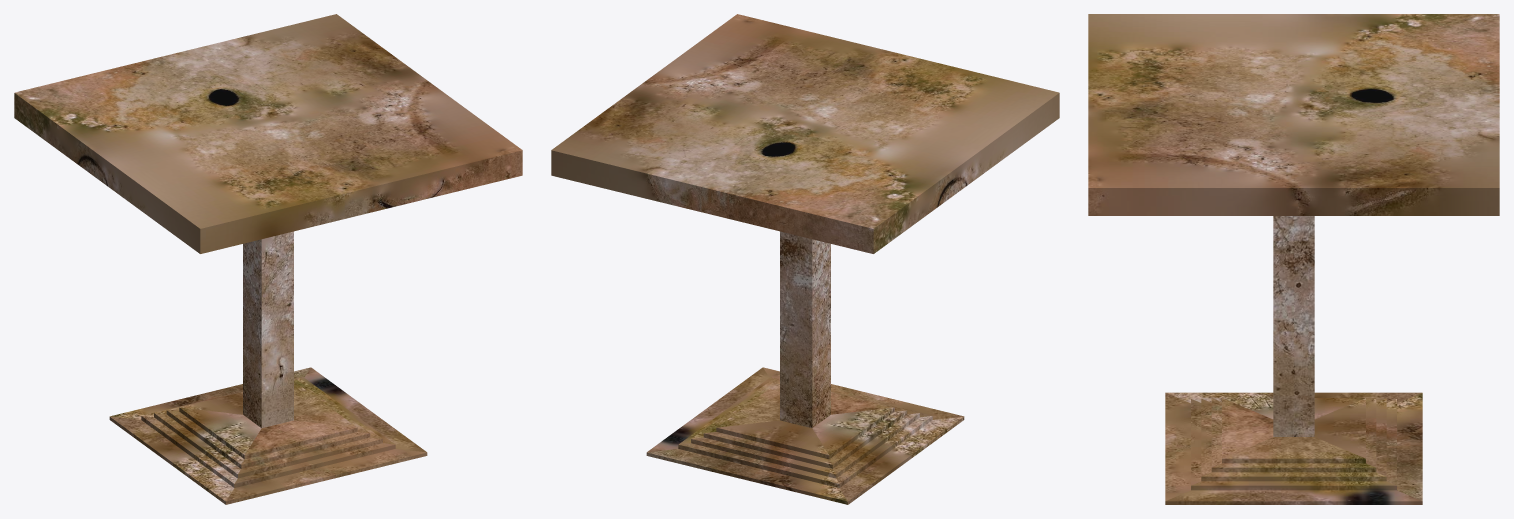
The model's file is TinyTable.fbx.
3 renders of one model, left to right at view 1: azimuth 30°, elevation 25°; view 2: azimuth 150°, elevation 25°; view 3: azimuth 270°, elevation 25°, orthographic. The views are drawn at different scales.
Parts seen in each view (by area): view 1: re_tb_01_0; view 2: re_tb_01_0; view 3: re_tb_01_0.
Part boxes in pixels (x1,y1,x2,y2): re_tb_01_0: (14, 14, 522, 504); re_tb_01_0: (551, 14, 1059, 504); re_tb_01_0: (1088, 14, 1499, 504).
Size of the model in its own units: 80 by 75 by 80.
